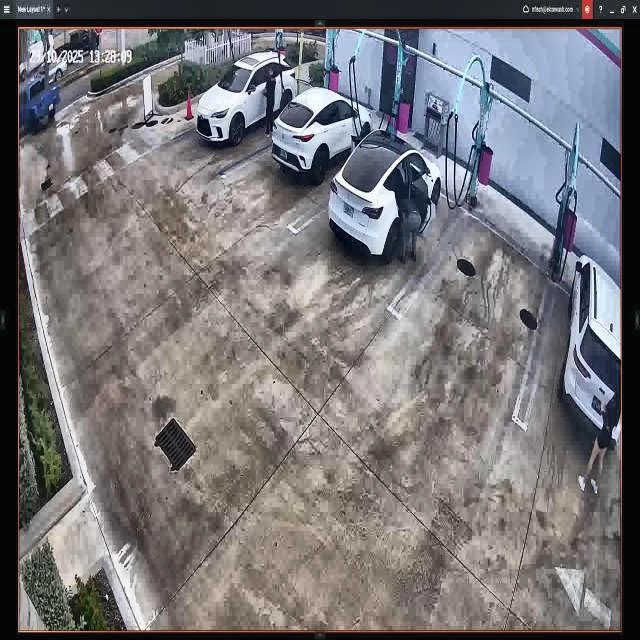Car: (330, 133, 443, 276), (199, 55, 296, 146), (273, 92, 370, 176)
